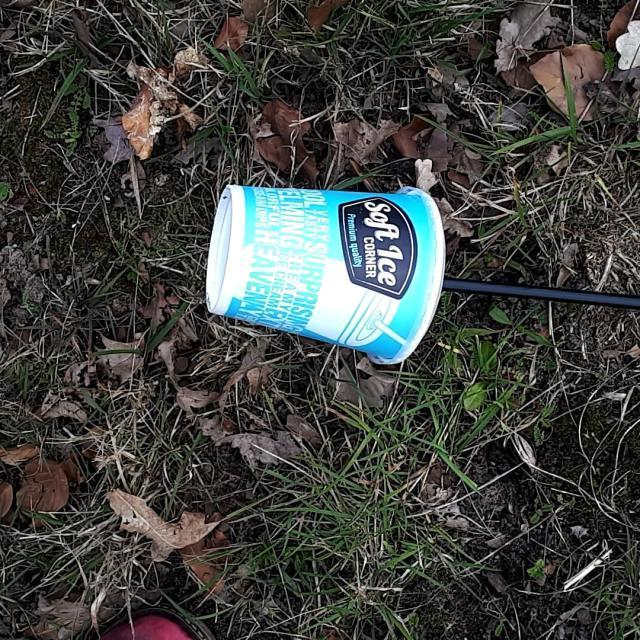Paper: (200, 180, 448, 368)
